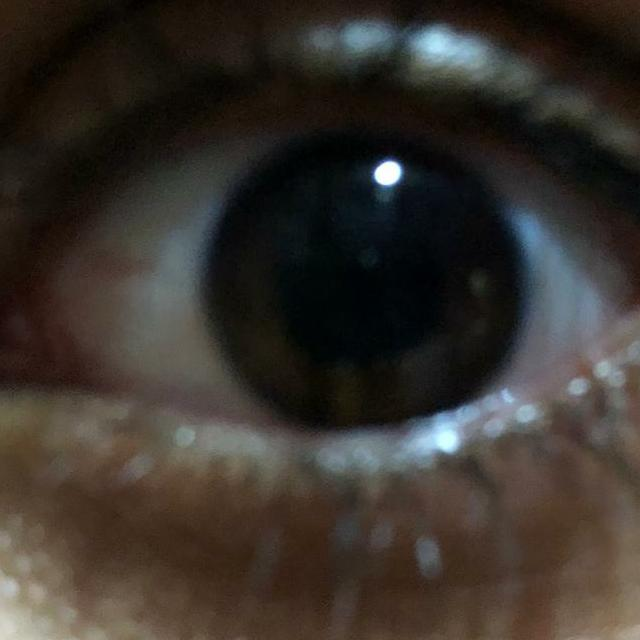eye: (44, 99, 640, 441)
iris: (200, 142, 529, 432)
